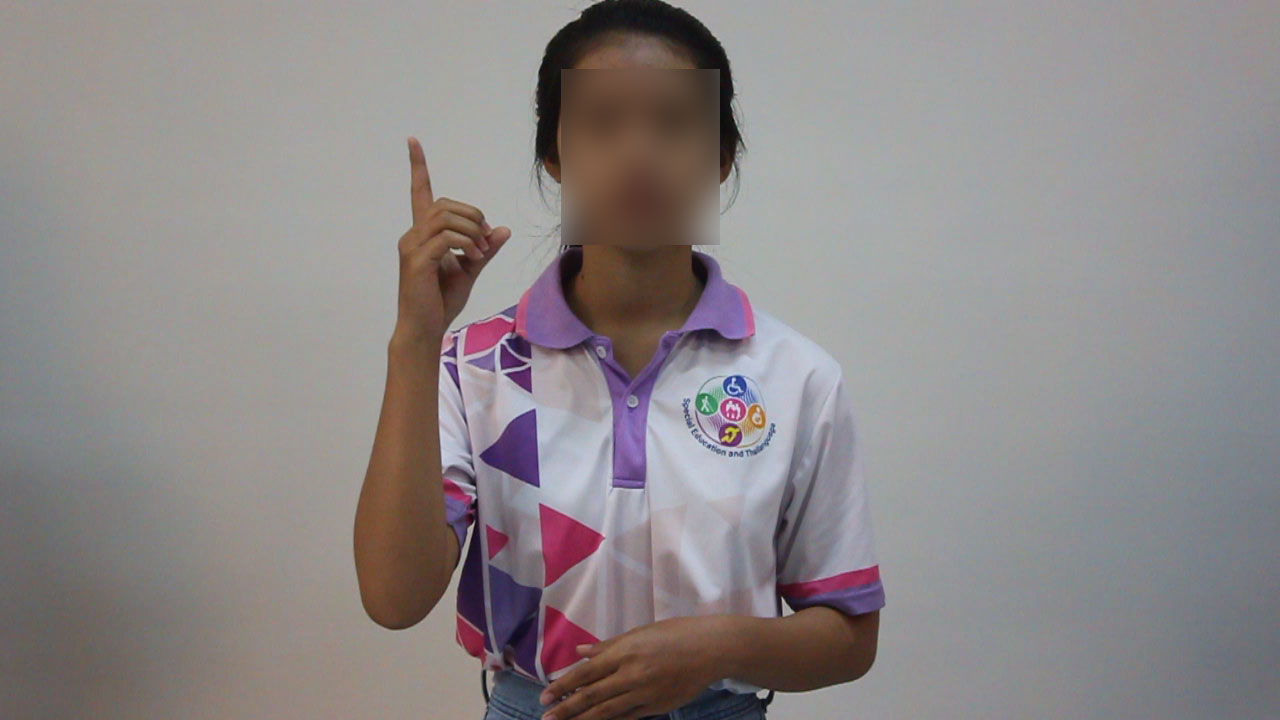dor: (381, 125, 526, 346)
